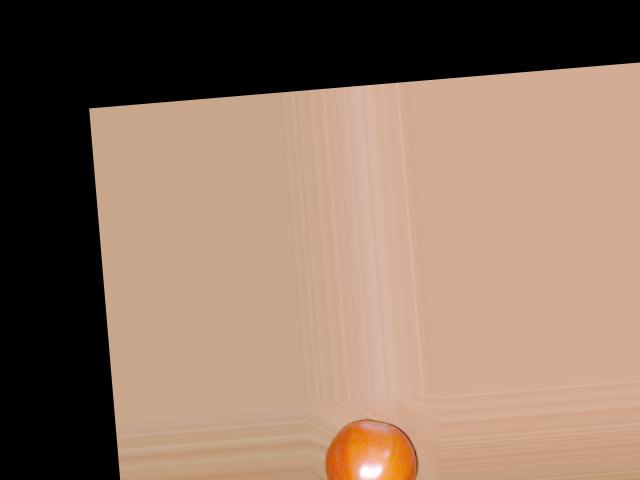tomato: (320, 416, 421, 480)
